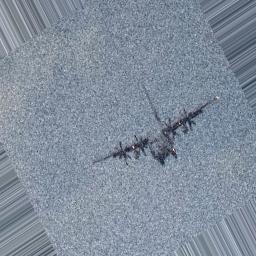Airplane: (90, 86, 218, 169)
